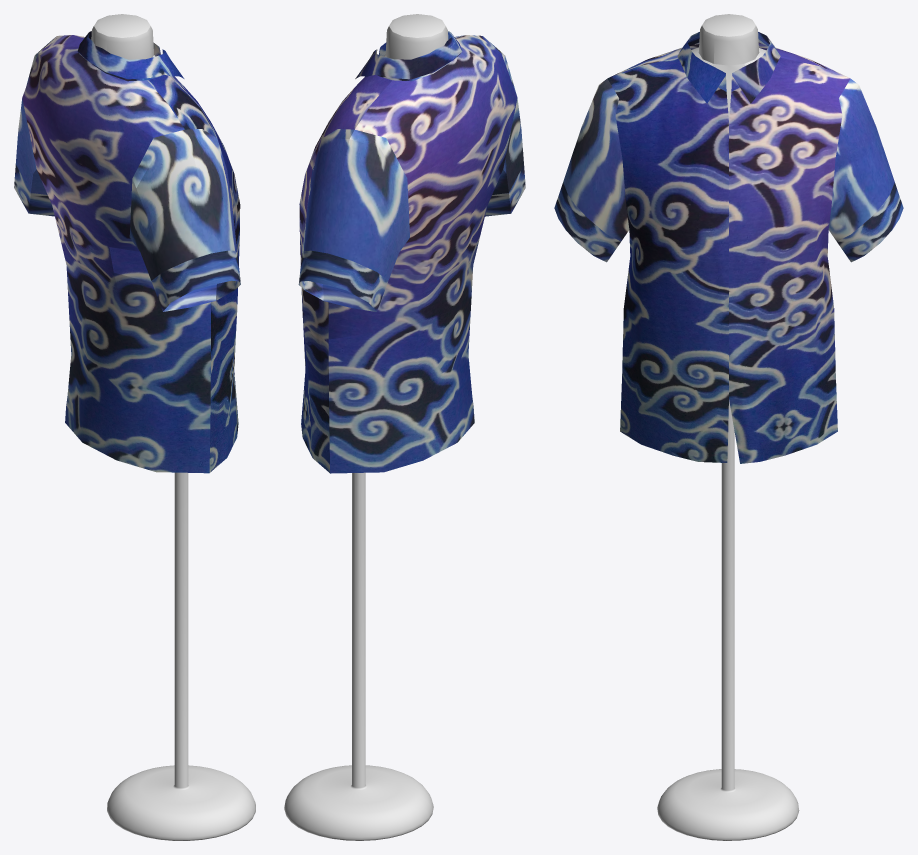
Rendered from Batik1.glb.
3 views of the same model, side by side, from view 1: azimuth 30°, elevation 25°; view 2: azimuth 150°, elevation 25°; view 3: azimuth 270°, elevation 25° (orthographic). The views are drawn at different scales.
Visible parts, largest first — view 1: 1.002; view 2: 1.002; view 3: 1.002.
Part boxes in pixels (x1,y1,x2,y2): 1.002: [14, 14, 255, 840]; 1.002: [284, 14, 525, 840]; 1.002: [554, 14, 903, 840].
Size of the model in its own units: 0.3596 by 1.48 by 0.616.
2 materials, 1 textured.
